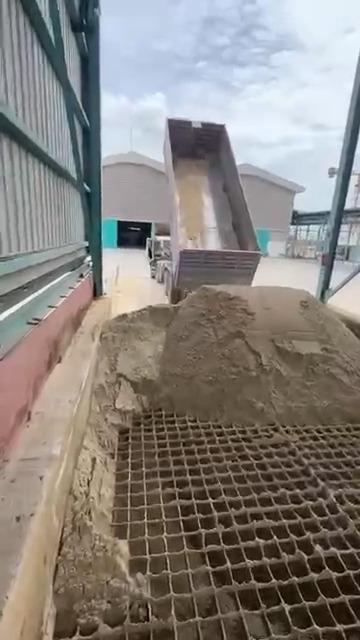sand: (55, 287, 360, 637), (175, 159, 208, 248)
